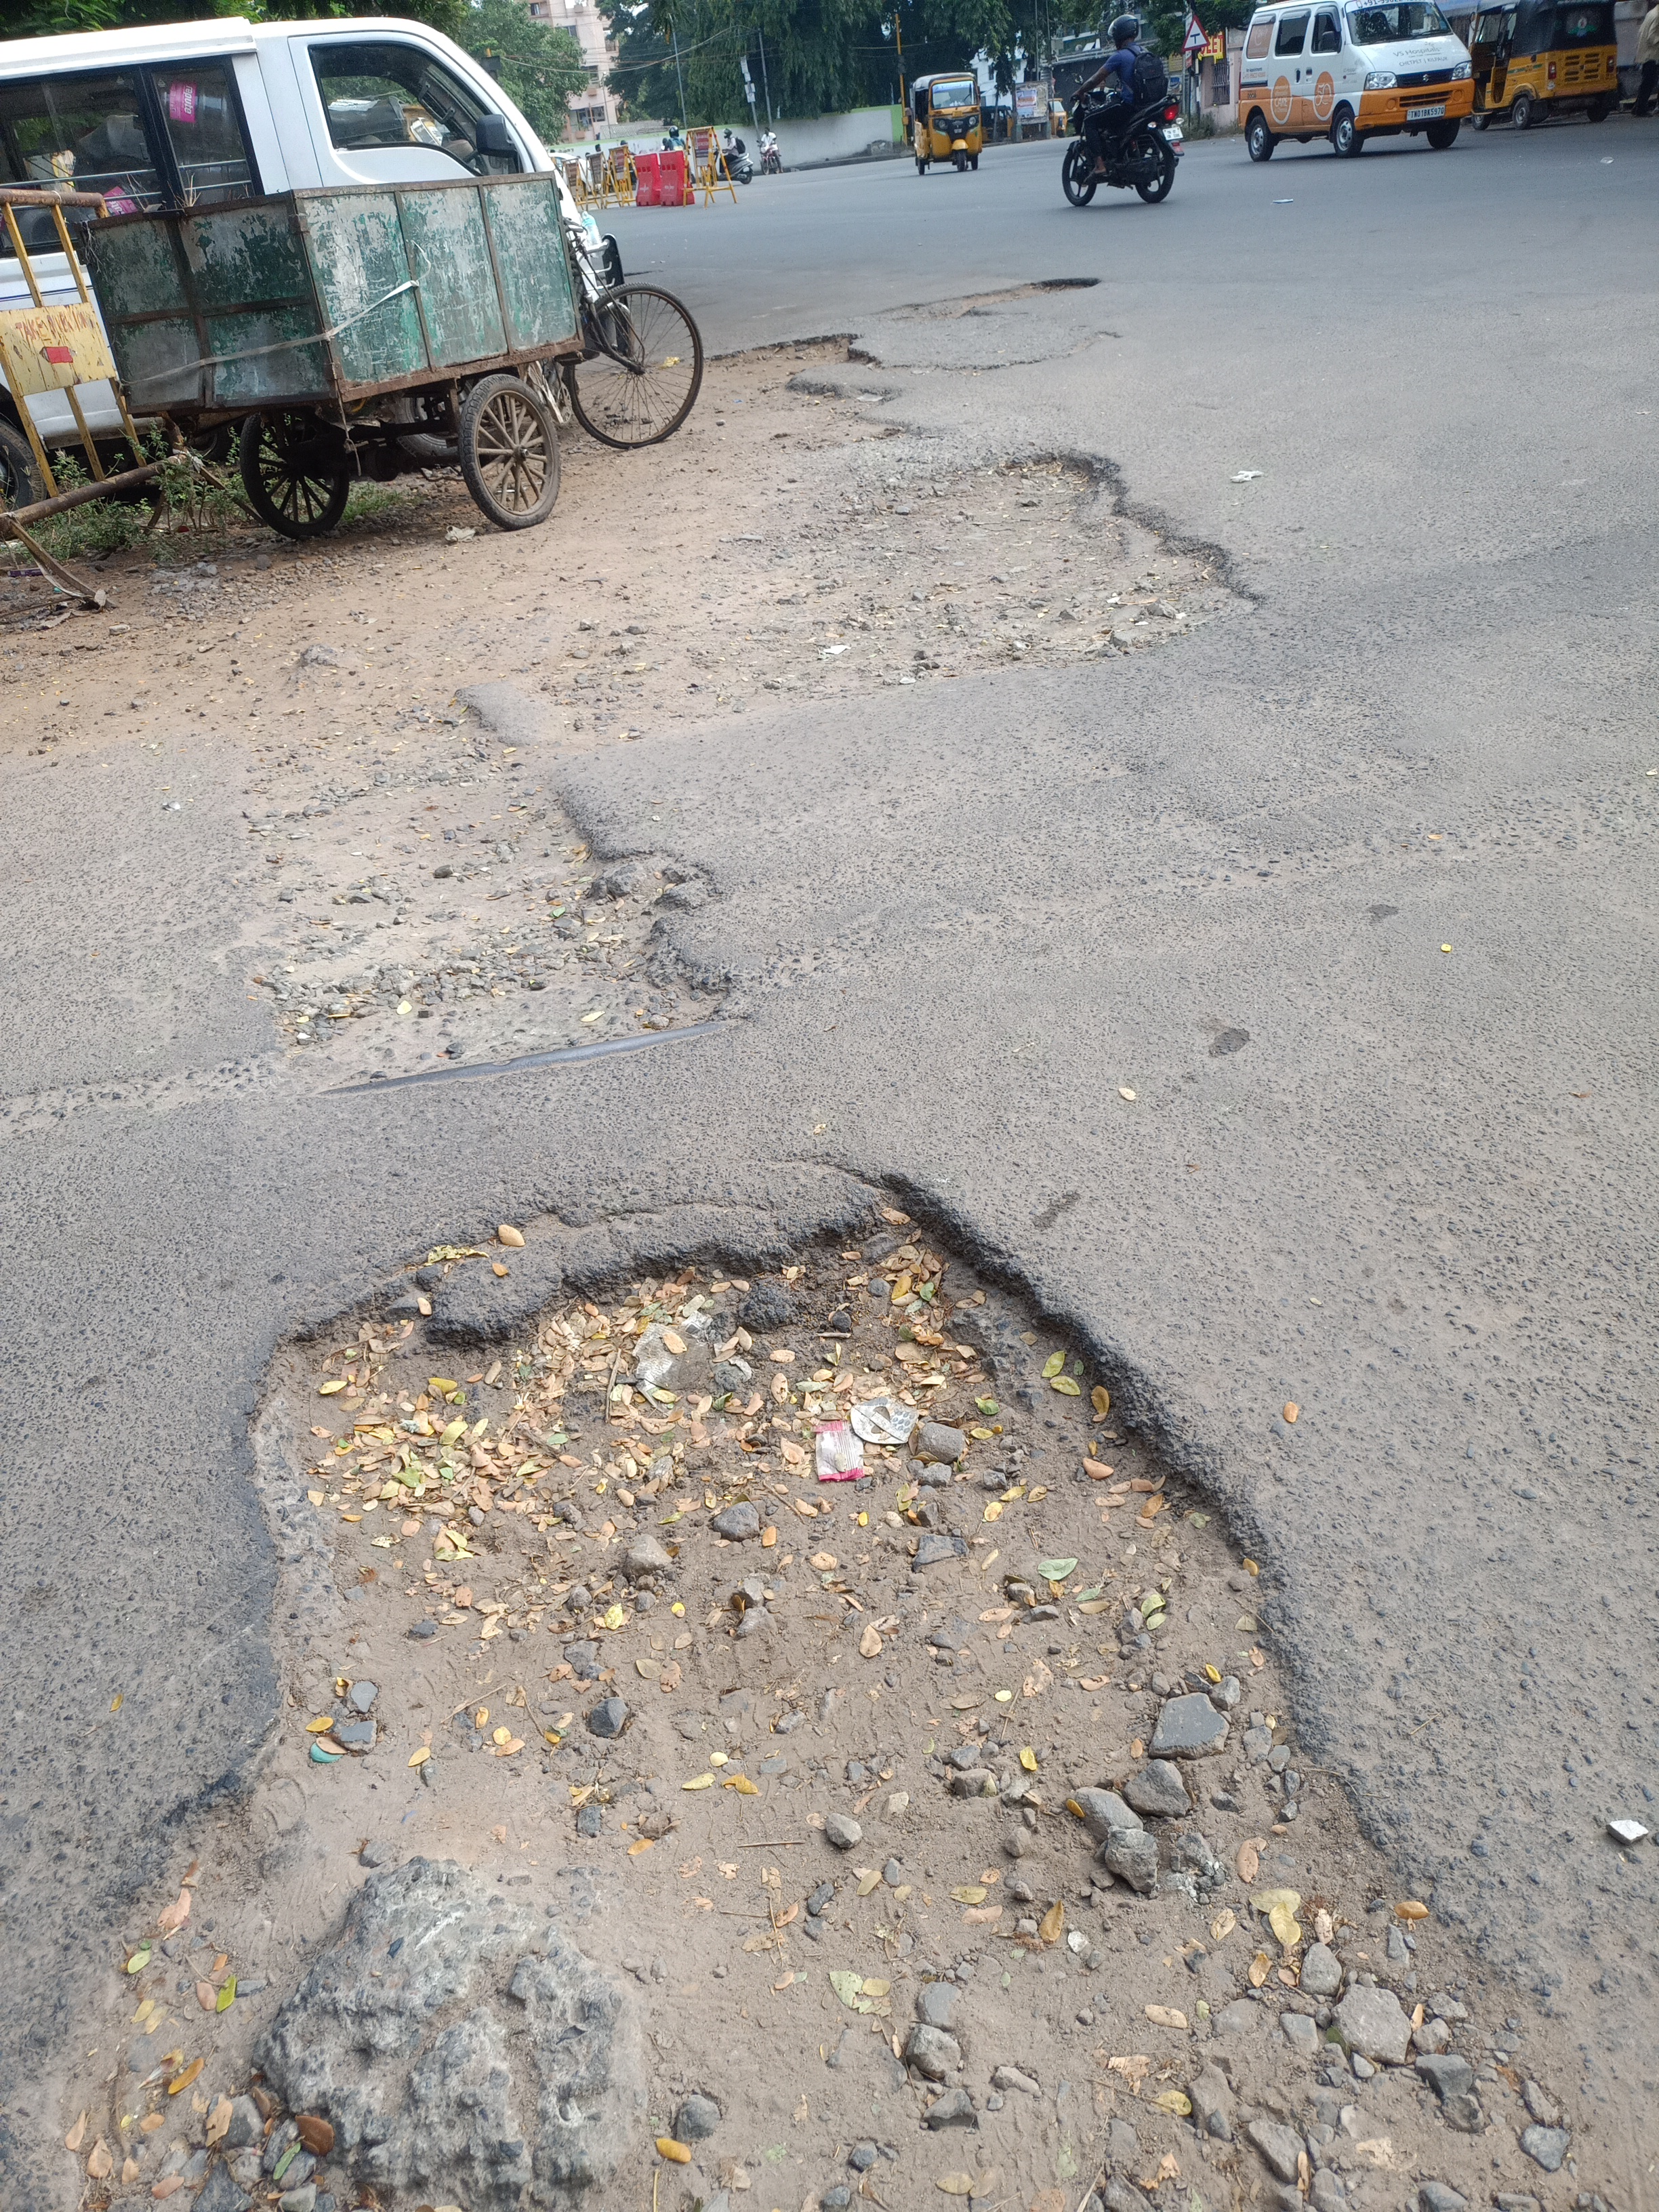potholes: (0, 1150, 1598, 2212), (171, 444, 1281, 1082)
